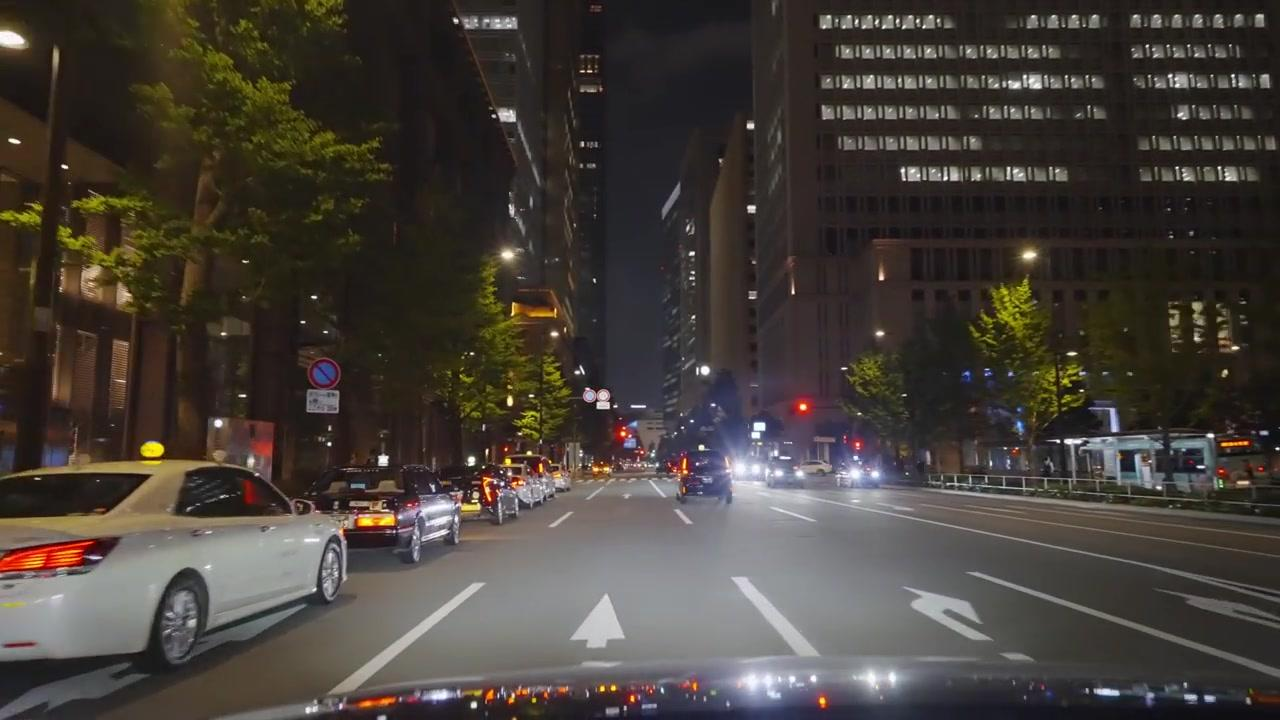bus: (1077, 432, 1216, 493)
car: (1, 452, 351, 670), (294, 463, 463, 565), (443, 466, 519, 523), (678, 461, 733, 503), (503, 465, 544, 508), (766, 463, 804, 488), (537, 474, 565, 497), (801, 461, 833, 476), (550, 472, 571, 492), (592, 464, 612, 479)
traffic light: (793, 399, 812, 415), (615, 421, 626, 439), (852, 438, 863, 453)
